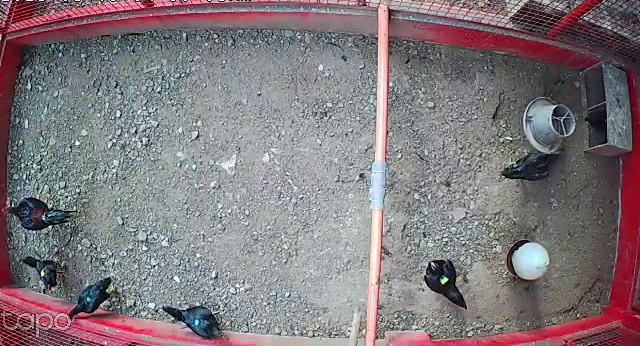Chicken: (157, 298, 229, 343), (423, 258, 470, 310), (496, 148, 563, 182), (69, 274, 117, 321), (22, 252, 70, 295)
Rooster: (0, 194, 82, 233)
Saddle_Color_Blue: (194, 317, 199, 327)
Saddle_Color_Yellow: (39, 268, 46, 278)
Saddle_Color_YellowGreen: (440, 274, 449, 283)
